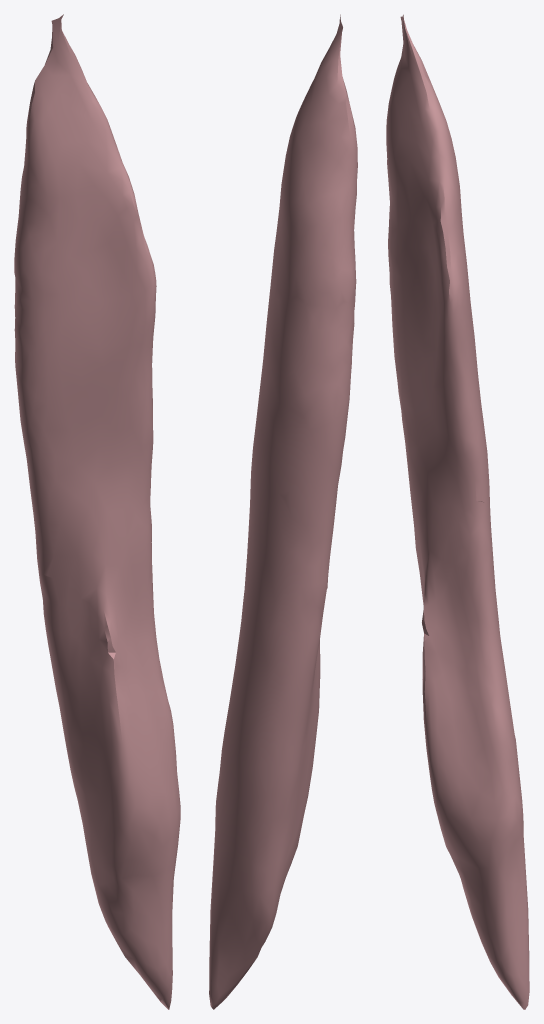
File: fma47198_mm1715m.glb
3 renders of one model, left to right at view 1: azimuth 30°, elevation 25°; view 2: azimuth 150°, elevation 25°; view 3: azimuth 330°, elevation 25°, orthographic. The views are drawn at different scales.
Parts seen in each view (by area): view 1: FMA47198_MM1715M; view 2: FMA47198_MM1715M; view 3: FMA47198_MM1715M.
Part boxes in pixels (left/top/right/bottom): FMA47198_MM1715M: left=14, top=14, right=180, bottom=1009; FMA47198_MM1715M: left=209, top=14, right=357, bottom=1009; FMA47198_MM1715M: left=386, top=14, right=529, bottom=1009.
Bounding box in the file's own units: 0.0369 × 0.2448 × 0.0241.
